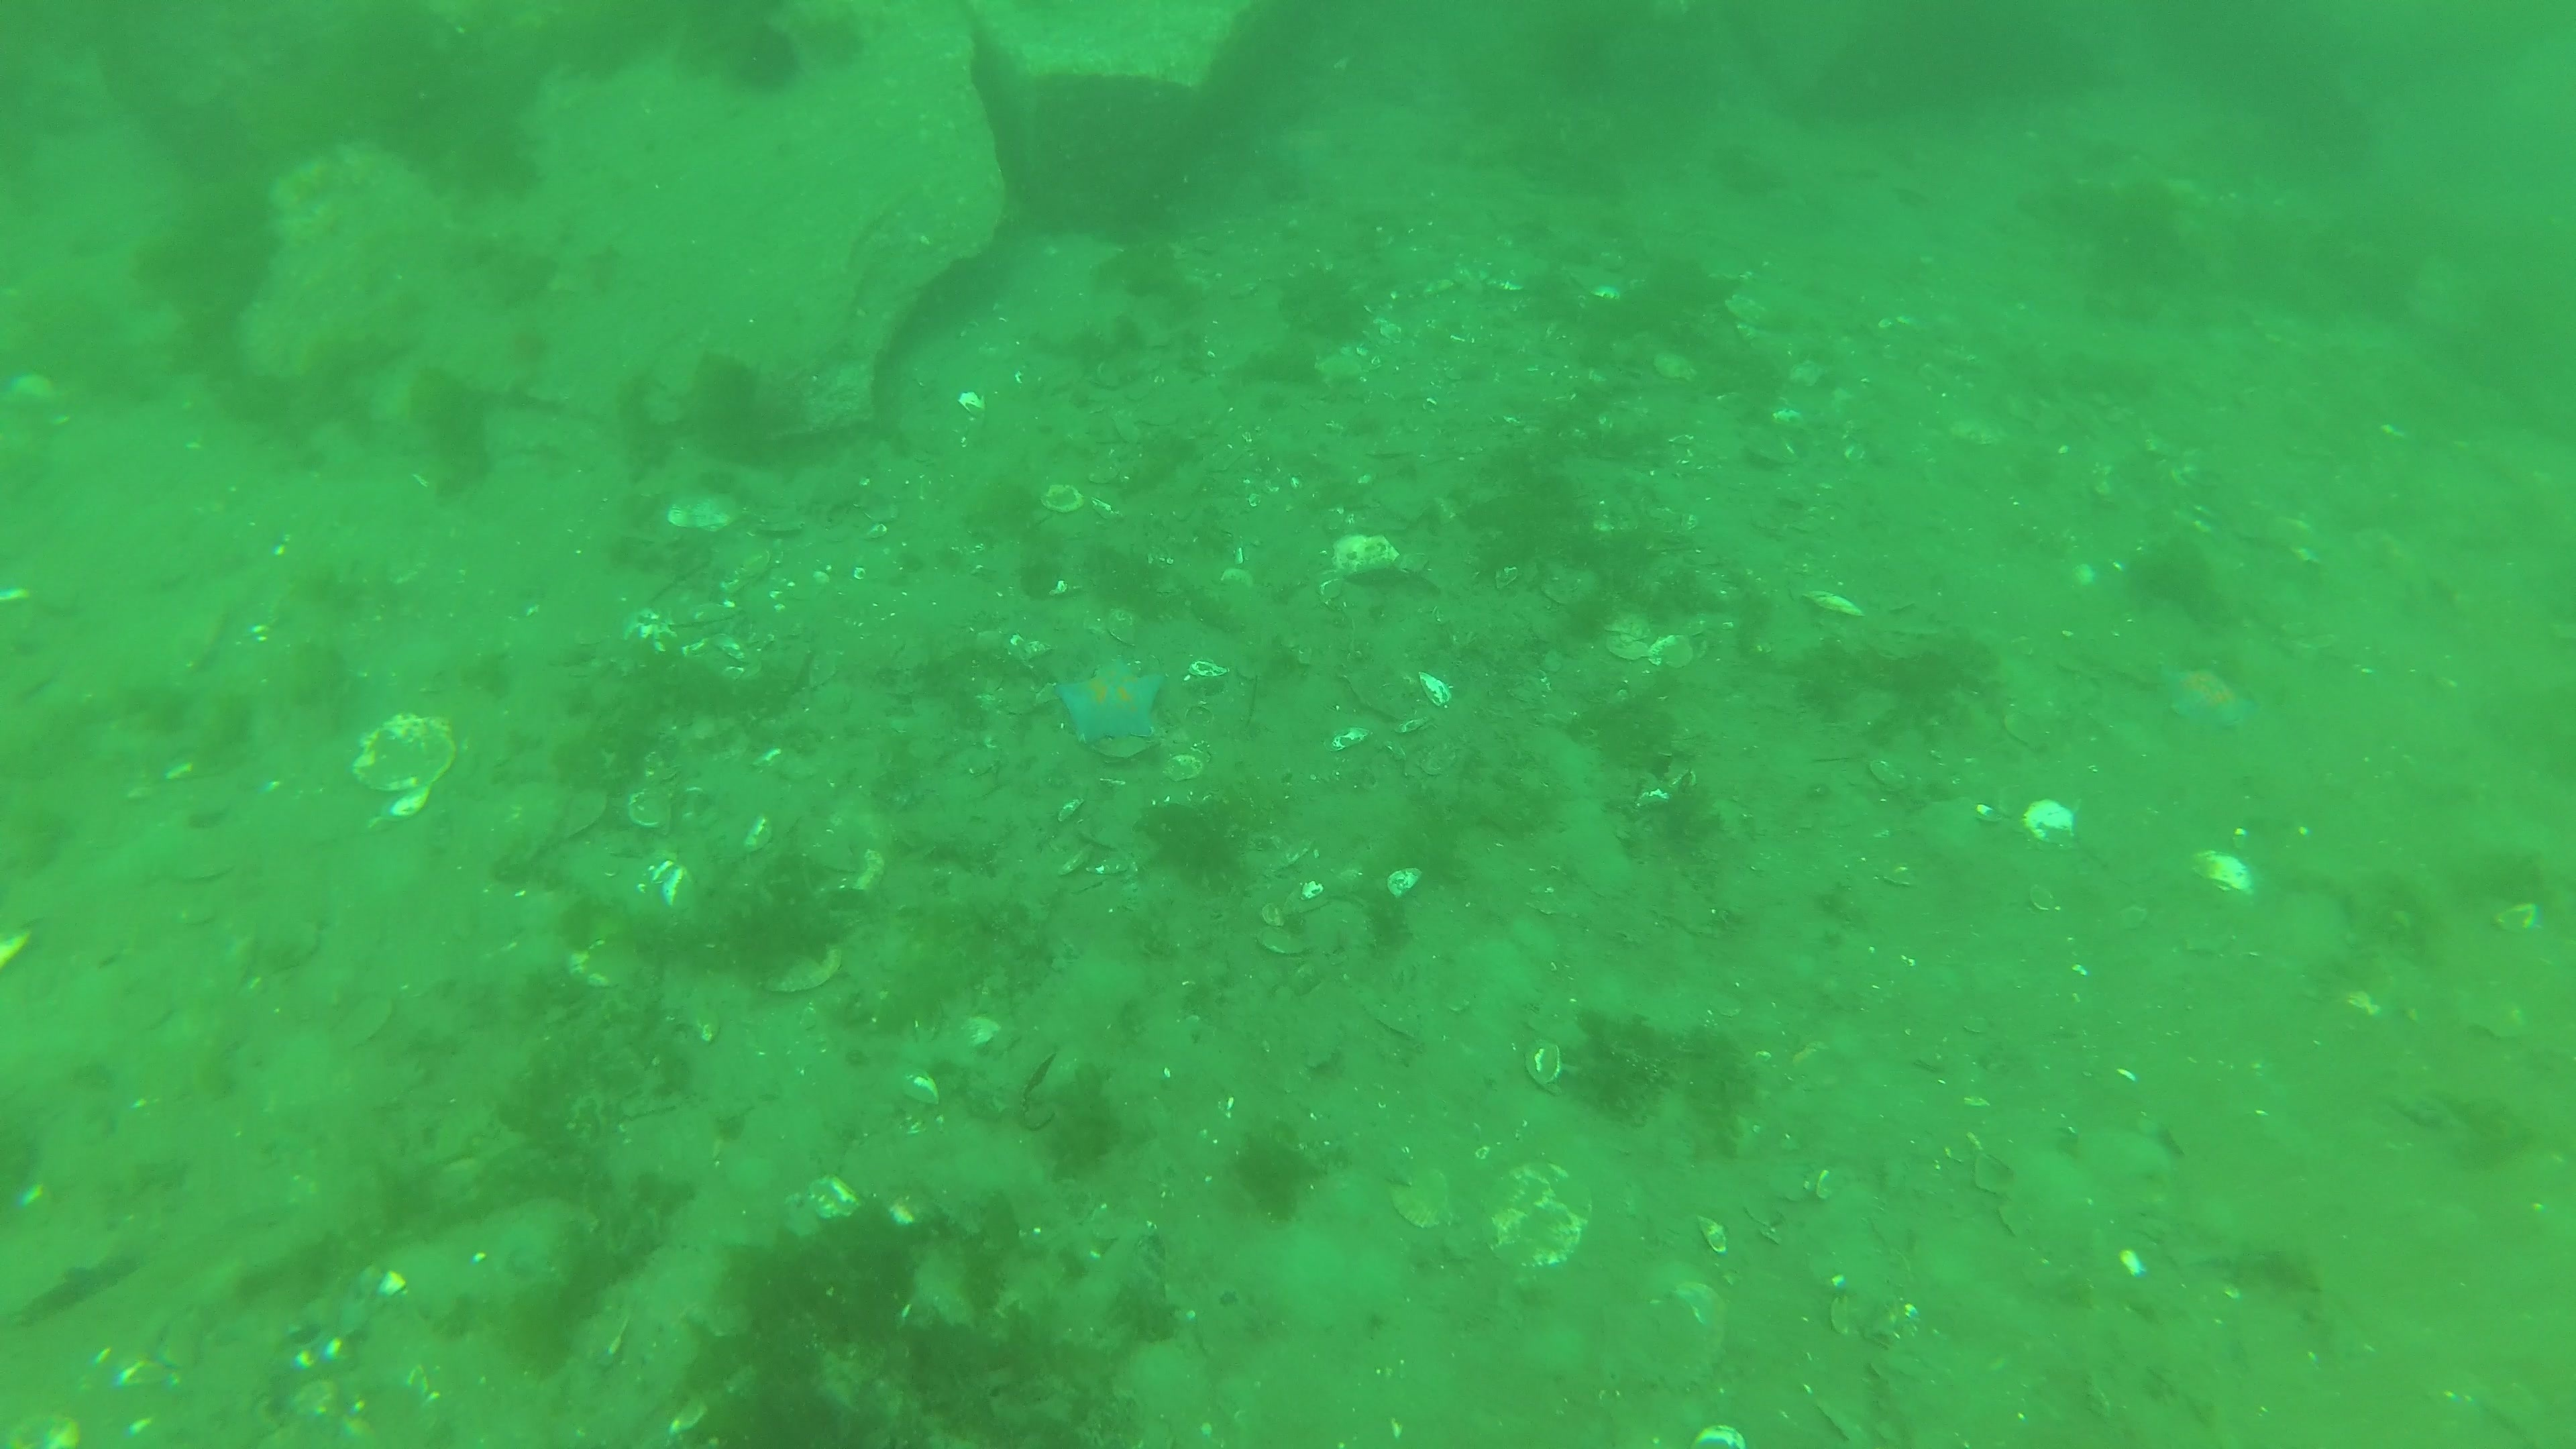starfish: (1047, 658, 1175, 750), (2155, 653, 2263, 732)
